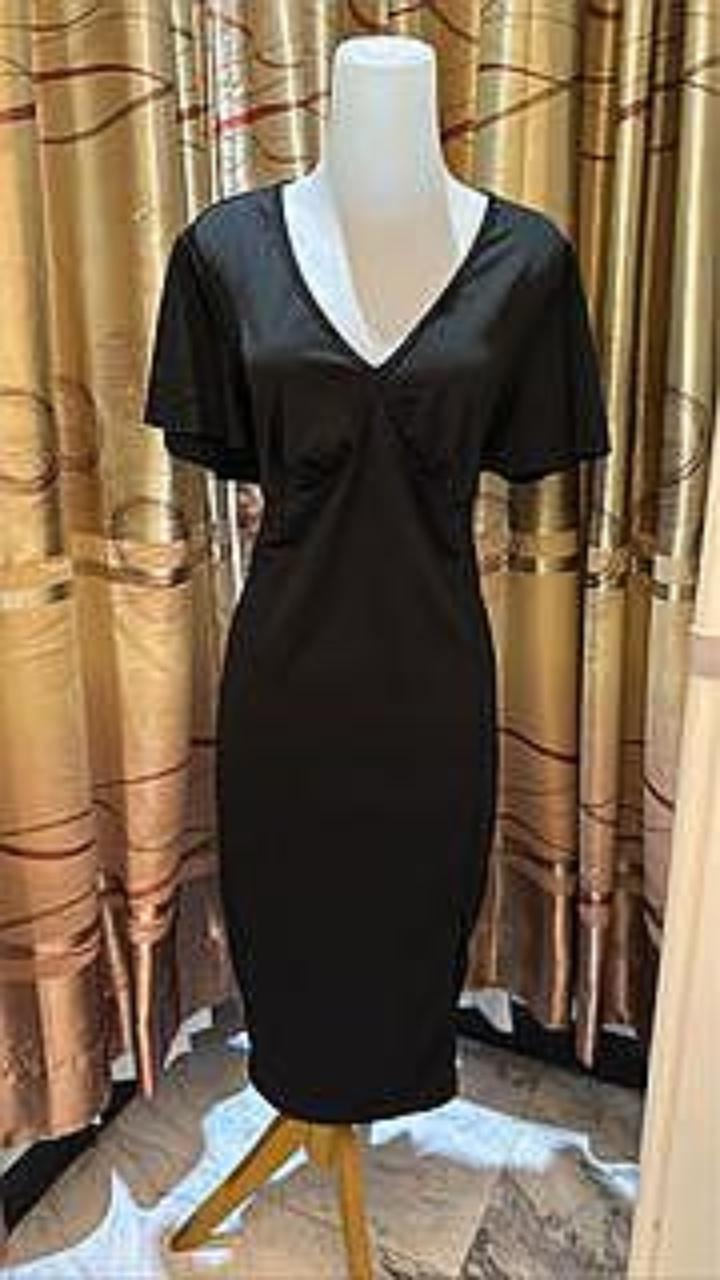Dresses: (144, 181, 609, 1121)
